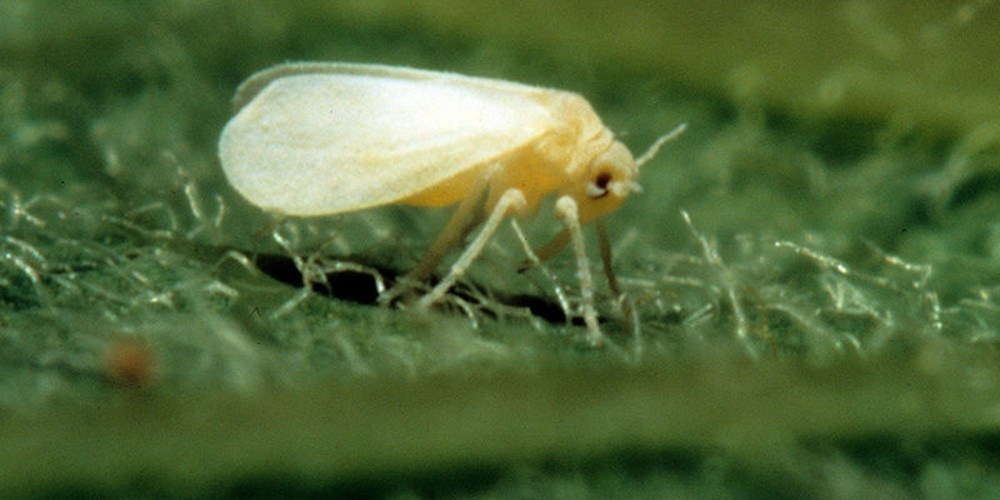Mosca Blanca: (213, 40, 710, 339)
